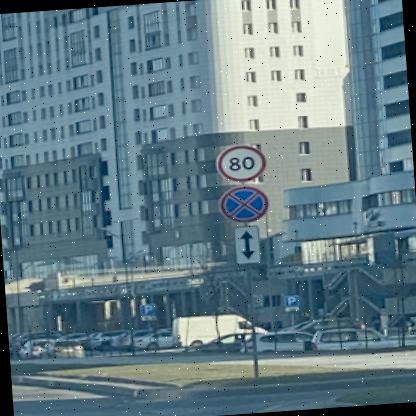speedlimit: (214, 142, 266, 182)
